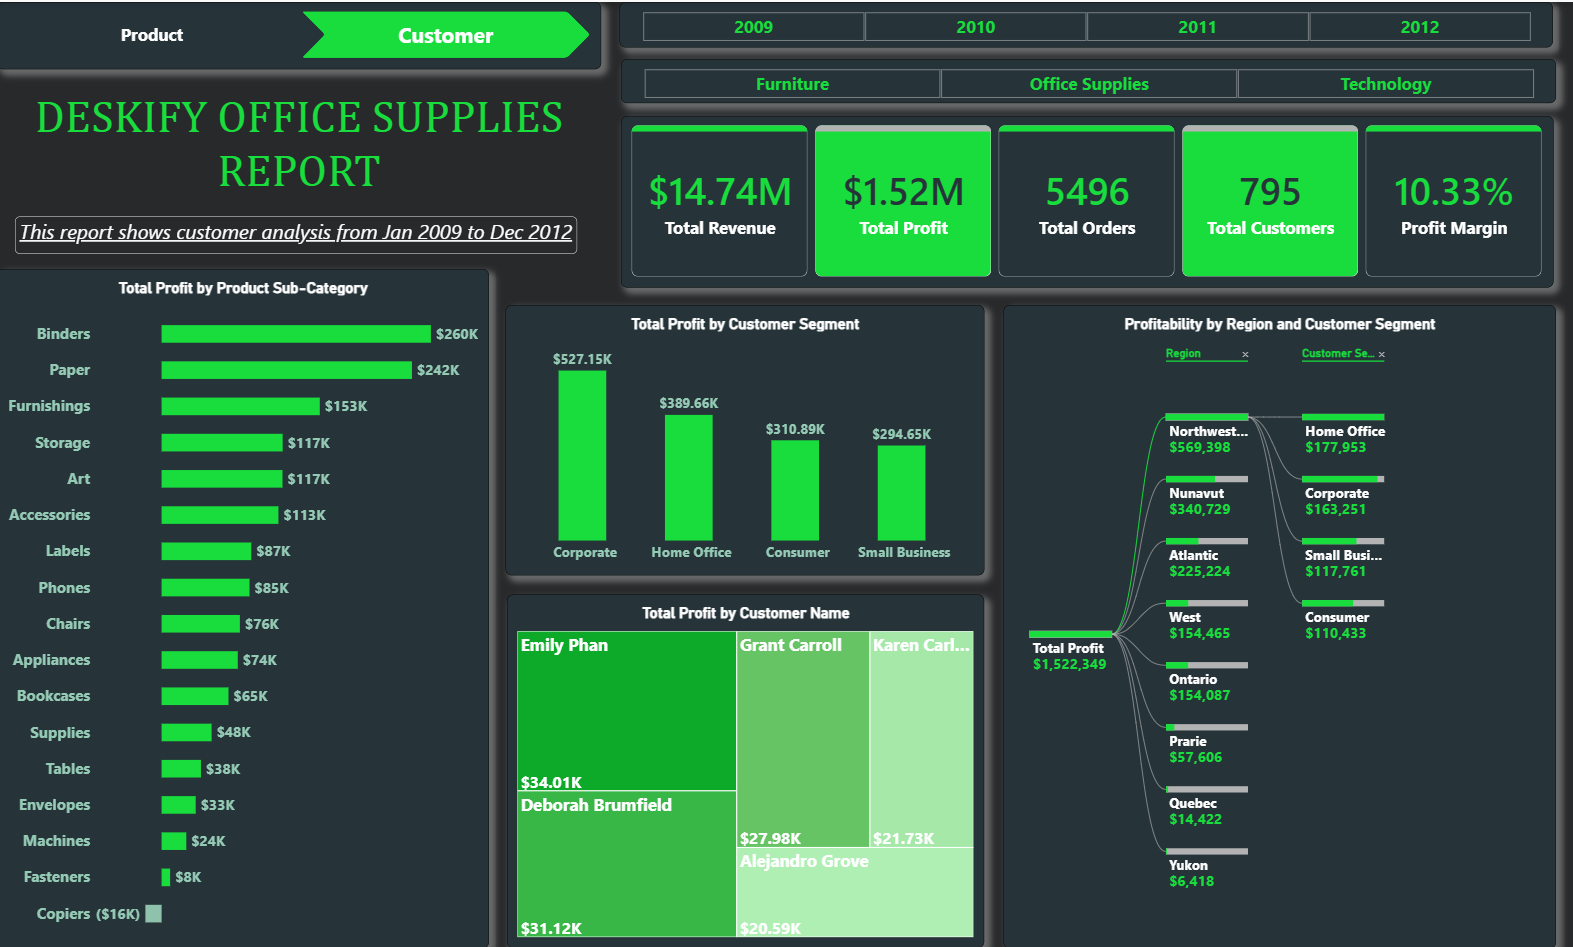

This screenshot's page, from the dashboard's own definition file:
{"tool":"powerbi","page":{"name":"Customer","canvas":[2500,1500],"ordinal":1},"visuals":[{"type":"cardVisual","fields":{"Data":["Calculated Measures.Total Revenue","Calculated Measures.Total Profit","Calculated Measures.Total Orders","Calculated Measures.Total Customers","Calculated Measures.Profit Margin"]},"box":[989.4,180.8,1478.7,272.1],"z":0},{"type":"slicer","fields":{"Values":["Calendar Dim.Year"]},"box":[986.8,0,1480.2,72.3],"z":6000},{"type":"slicer","fields":{"Values":["Product Dim.Product Category"]},"box":[989.4,90.4,1482.8,69.7],"z":7000},{"type":"pageNavigator","box":[0,0,958.2,106.5],"z":8000},{"type":"textbox","box":[0,139,958.2,174.5],"z":9000},{"type":"textbox","box":[28.4,341,891.2,59.4],"z":10000},{"type":"clusteredColumnChart","fields":{"Category":["Customer Dim.Customer Segment"],"Y":["Calculated Measures.Total Profit"]},"box":[806,480.5,759.5,428.8],"z":10001},{"type":"decompositionTreeVisual","title":"Profitability by Region and Customer Segment","fields":{"Analyze":["Calculated Measures.Total Profit"],"ExplainBy":["Location Dim.Region","Customer Dim.Customer Segment"]},"box":[1596.5,480.5,875.7,1020.4],"z":10002},{"type":"treemap","fields":{"Group":["Customer Dim.Customer Name"],"Values":["Calculated Measures.Total Profit"]},"box":[808.6,940.3,756.9,560.6],"z":10003},{"type":"clusteredBarChart","fields":{"Category":["Product Dim.Product Sub-Category"],"Y":["Calculated Measures.Total Profit"]},"box":[0,423.7,780.2,1077.2],"z":10004}]}

Visuals, with their boxes in screenshot pixels (x1, y1, x2, y2), scaled from the page's 2500x1500 canvas onto the 1573x947 screenshot:
cardVisual - Calculated Measures.Total Revenue x Calculated Measures.Total Profit: rect(623, 114, 1553, 286)
slicer - Calendar Dim.Year: rect(621, 0, 1552, 46)
slicer - Product Dim.Product Category: rect(623, 57, 1556, 101)
pageNavigator: rect(0, 0, 603, 67)
textbox: rect(0, 88, 603, 198)
textbox: rect(18, 215, 579, 253)
clusteredColumnChart - Customer Dim.Customer Segment x Calculated Measures.Total Profit: rect(507, 303, 985, 574)
"Profitability by Region and Customer Segment" decompositionTreeVisual: rect(1005, 303, 1556, 946)
treemap - Customer Dim.Customer Name x Calculated Measures.Total Profit: rect(509, 594, 985, 946)
clusteredBarChart - Product Dim.Product Sub-Category x Calculated Measures.Total Profit: rect(0, 267, 491, 946)
